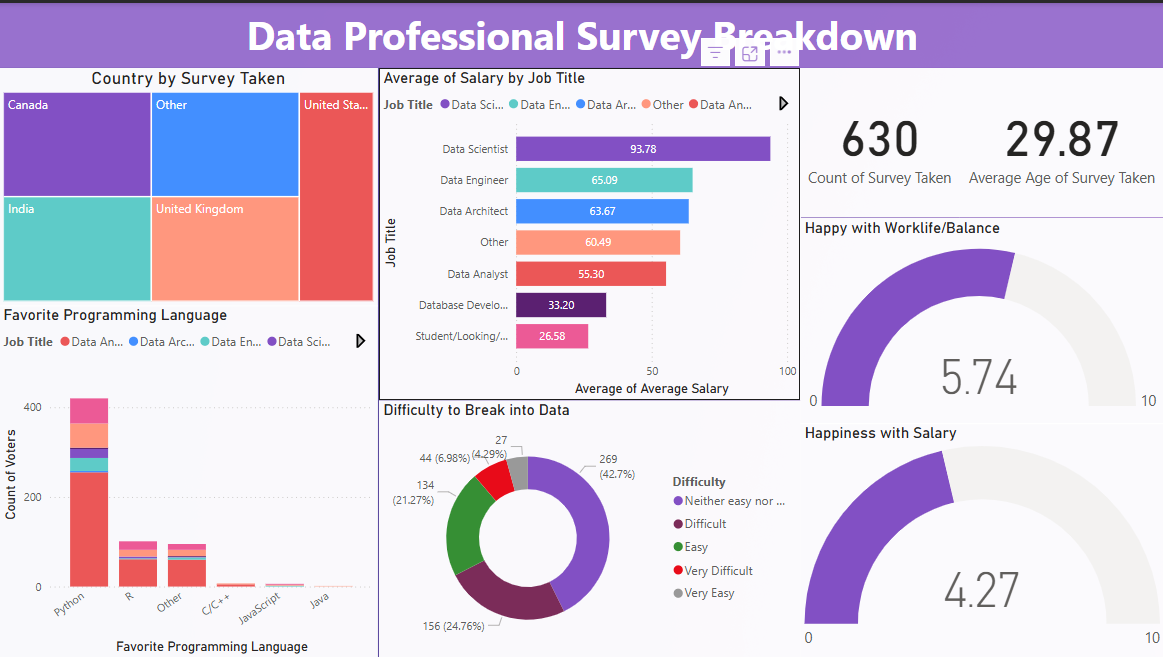

The page's visual inventory and layout, read from the dashboard file:
{"tool":"powerbi","page":{"name":"Page 1","canvas":[1280,720],"ordinal":0},"visuals":[{"type":"textbox","title":"skjwj","box":[0,0,1280.3,71.4],"z":0},{"type":"card","fields":{"Values":["Count(Data Professional Survey.Unique ID)"]},"box":[879.4,71.4,174.7,164],"z":1000},{"type":"card","fields":{"Values":["Avg(Data Professional Survey.Q10 - Current Age)"]},"box":[1054,71.4,226.3,164],"z":2000},{"type":"barChart","title":"Average of Salary by Job Title","fields":{"Category":["Data Professional Survey.Q1 - Which Title Best Fits your Current Role?.1"],"Y":["Avg(Data Professional Survey.Average Salary)"],"Series":["Data Professional Survey.Q1 - Which Title Best Fits your Current Role?.1"]},"box":[416.7,71.7,463.3,365],"z":3000},{"type":"columnChart","title":"Favorite Programming Language","fields":{"Category":["Data Professional Survey.Q5 - Favorite Programming Language"],"Y":["CountNonNull(Data Professional Survey.Unique ID)"],"Series":["Data Professional Survey.Q1 - Which Title Best Fits your Current Role?.1"]},"box":[0,332.6,416.1,387.3],"z":4000},{"type":"treemap","title":"Country by Survey Taken","fields":{"Group":["Data Professional Survey.Q11 - Which Country do you live in?"],"Values":["Count(Data Professional Survey.Q11 - Which Country do you live in?)"]},"box":[0,71.4,416.1,261.2],"z":5000},{"type":"gauge","title":"Happy with Worklife/Balance","fields":{"Y":["Avg(Data Professional Survey.Q6 - How Happy are you in your Current Position with the following? (Work/Life Balance))"],"MinValue":["Min(Data Professional Survey.Q6 - How Happy are you in your Current Position with the following? (Work/Life Balance))1"],"MaxValue":["Max(Data Professional Survey.Q6 - How Happy are you in your Current Position with the following? (Work/Life Balance))2"]},"box":[879.4,235.4,401,226.3],"z":6000},{"type":"gauge","title":"Happiness with Salary","fields":{"Y":["Avg(Data Professional Survey.Q6 - How Happy are you in your Current Position with the following? (Salary))"],"MinValue":["Min(Data Professional Survey.Q6 - How Happy are you in your Current Position with the following? (Salary))1"],"MaxValue":["Max(Data Professional Survey.Q6 - How Happy are you in your Current Position with the following? (Salary))2"]},"box":[880,461.7,400,258.3],"z":7000},{"type":"donutChart","title":"Difficulty to Break into Data ","fields":{"Category":["Data Professional Survey.Q7 - How difficult was it for you to break into Data?"],"Y":["CountNonNull(Data Professional Survey.Q7 - How difficult was it for you to break into Data?)"]},"box":[416.7,436.7,463.3,283.3],"z":8000}]}

Visuals, with their boxes in screenshot pixels (x1, y1, x2, y2):
"skjwj" textbox: select_region(0, 0, 1162, 66)
card - Count(Data Professional Survey.Unique ID): select_region(805, 66, 967, 219)
card - Avg(Data Professional Survey.Q10 - Current Age): select_region(967, 66, 1162, 219)
"Average of Salary by Job Title" barChart: select_region(375, 67, 805, 406)
"Favorite Programming Language" columnChart: select_region(0, 309, 374, 656)
"Country by Survey Taken" treemap: select_region(0, 66, 374, 309)
"Happy with Worklife/Balance" gauge: select_region(805, 219, 1162, 429)
"Happiness with Salary" gauge: select_region(805, 429, 1162, 656)
"Difficulty to Break into Data " donutChart: select_region(375, 406, 805, 656)
